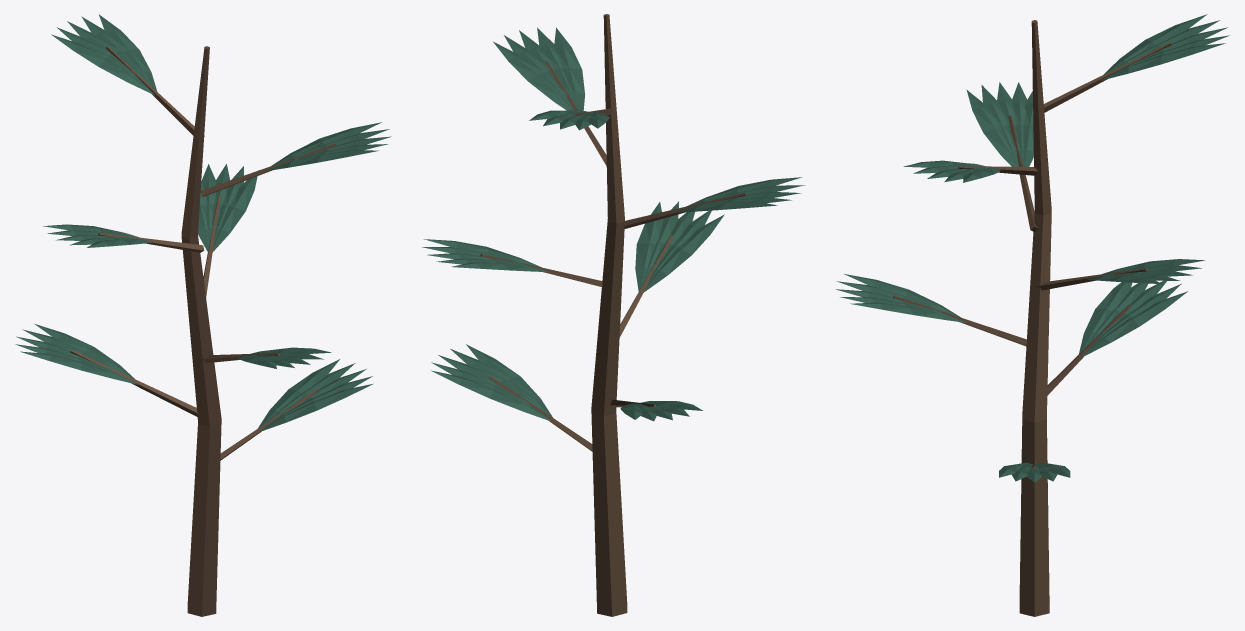
File: spruce_sapling.glb
The picture shows the model from 3 angles, left to right: view 1: azimuth 30°, elevation 25°; view 2: azimuth 150°, elevation 25°; view 3: azimuth 270°, elevation 25°; orthographic projection. The views are drawn at different scales.
Parts seen in each view (by area): view 1: leaves, branches; view 2: leaves, branches; view 3: leaves, branches.
Part boxes in pixels (<box>): leaves: <box>15,14,391,431</box>; branches: <box>70,46,336,616</box>; leaves: <box>422,27,805,421</box>; branches: <box>480,14,746,616</box>; leaves: <box>835,14,1229,482</box>; branches: <box>893,20,1171,616</box>.
Size of the model in its own units: 0.3674 by 0.6 by 0.3647.
